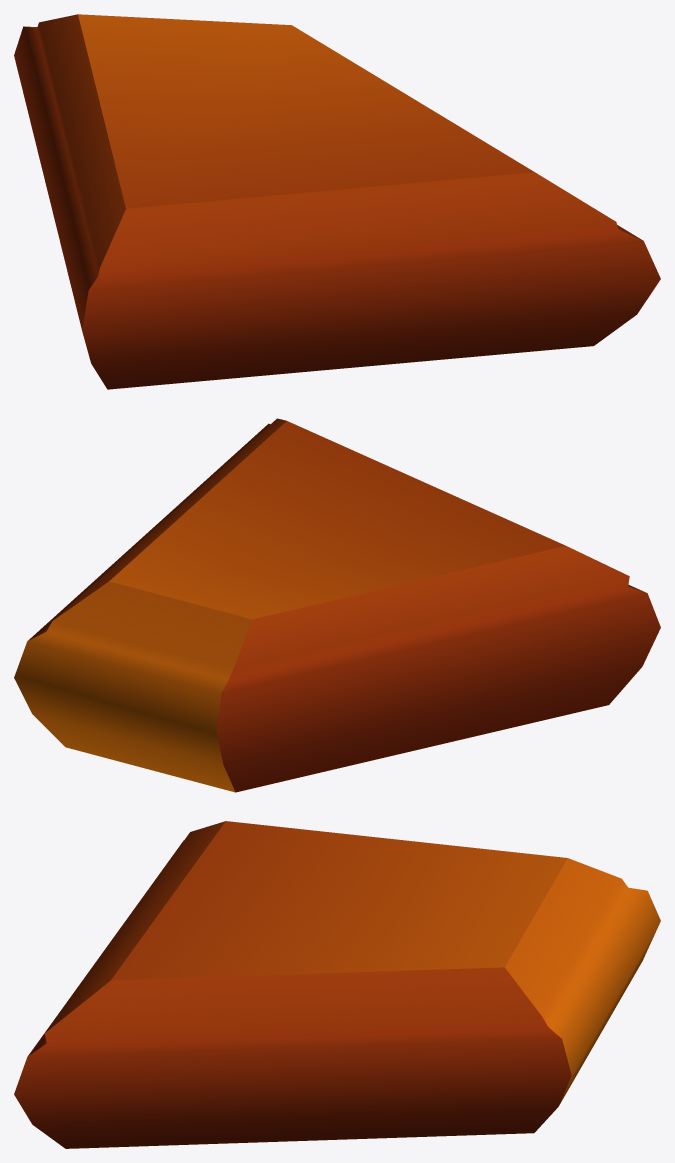
The model's file is Desert_FlatRock05.fbx.
3 views of the same model, one above another, from view 1: azimuth 30°, elevation 25°; view 2: azimuth 150°, elevation 25°; view 3: azimuth 270°, elevation 25° (orthographic). The views are drawn at different scales.
Visible parts, largest first — view 1: Desert_FlatRock01:pCube1; view 2: Desert_FlatRock01:pCube1; view 3: Desert_FlatRock01:pCube1.
Boxes of the visible parts, <box> form: Desert_FlatRock01:pCube1: <box>14,14,660,389</box>; Desert_FlatRock01:pCube1: <box>14,418,660,792</box>; Desert_FlatRock01:pCube1: <box>14,821,660,1148</box>.
Bounding box in the file's own units: 2.53 × 0.9597 × 3.12.
1 material, 1 textured.
